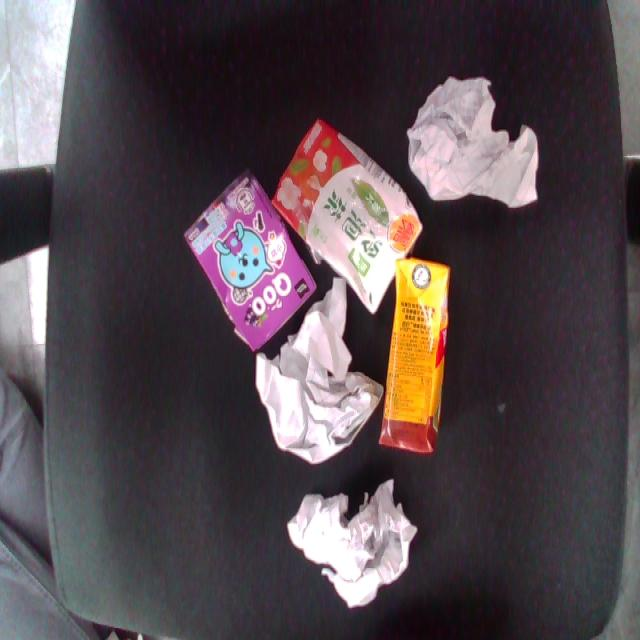juicebox: (235, 105, 456, 322), (150, 148, 350, 375), (374, 249, 459, 464)
paper: (216, 260, 413, 485), (284, 462, 463, 626), (390, 63, 563, 225)
